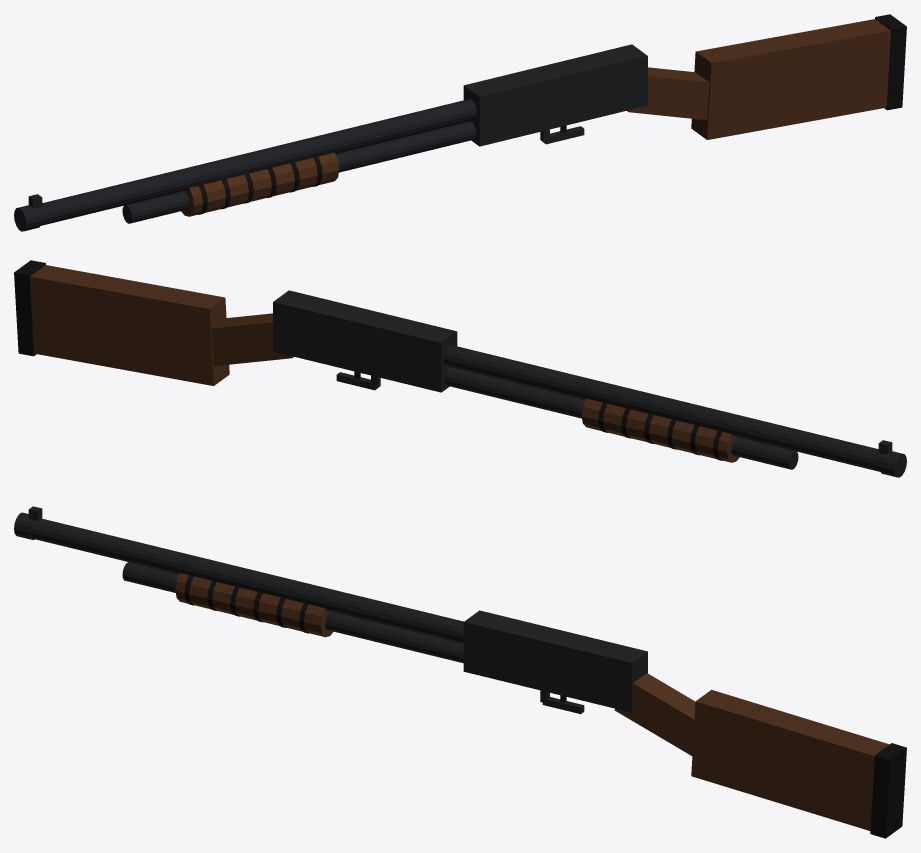
Rendered from shotgun.glb.
The picture shows the model from 3 angles, top to bottom: view 1: azimuth 30°, elevation 25°; view 2: azimuth 150°, elevation 25°; view 3: azimuth 330°, elevation 25°; orthographic projection.
Parts seen in each view (by area): view 1: root; view 2: root; view 3: root.
Part boxes in pixels (bbox=[...]): root: bbox=[14, 14, 906, 231]; root: bbox=[14, 260, 906, 477]; root: bbox=[14, 506, 906, 838].
Size of the model in its own units: 1.15 by 0.1425 by 0.043.
